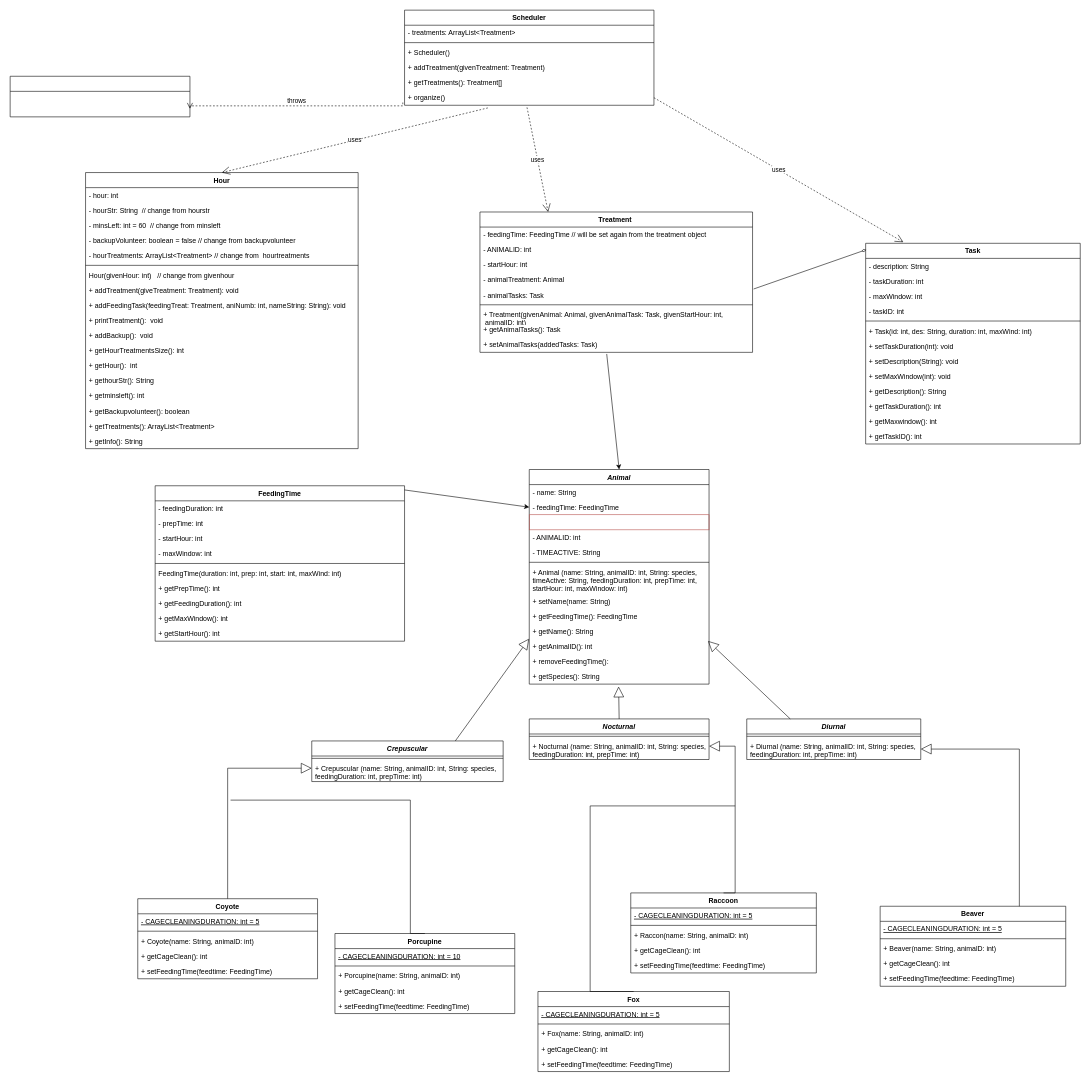
Image size: 1090x1083. Some labels were removed from this diagram. Each missing label, with the centre of its shape:
"- SPECIES: String" goes at point 619,522.
"UnavoidableOverlapException" goes at point 100,96.
